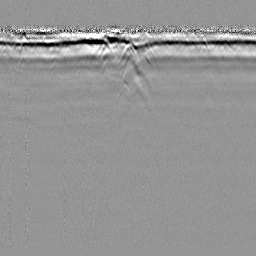cavity: (116, 42, 141, 66)
